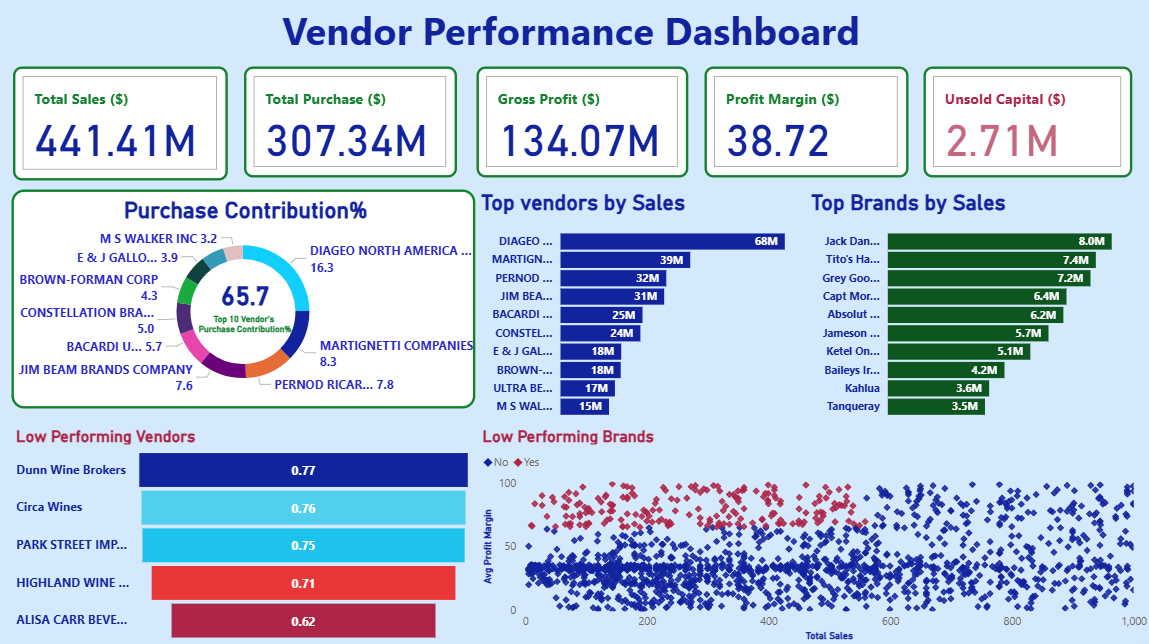

The page's visual inventory and layout, read from the dashboard file:
{"tool":"powerbi","page":{"name":"Page 1","canvas":[1280,720],"ordinal":0},"visuals":[{"type":"cardVisual","fields":{"Data":["Sum(vendor_sales_summary.TotalSalesDollars)"]},"box":[16.7,75,238.3,126.7],"z":0},{"type":"cardVisual","fields":{"Data":["Sum(vendor_sales_summary.TotalPurchaseDollars)"]},"box":[273.3,75,236.7,123.3],"z":1000},{"type":"textbox","box":[16.7,0,1243.3,75],"z":2000},{"type":"cardVisual","fields":{"Data":["Sum(vendor_sales_summary.GrossProfit)"]},"box":[531.7,75,235,123.3],"z":3000},{"type":"cardVisual","fields":{"Data":["Avg(vendor_sales_summary.ProfitMargin)"]},"box":[785,75,226.7,123.3],"z":4000},{"type":"cardVisual","fields":{"Data":["Sum(vendor_sales_summary.UnsoldCapital)"]},"box":[1028.3,75,231.7,123.3],"z":5000},{"type":"donutChart","title":"Purchase Contribution% ","fields":{"Y":["Sum(PurchaseContribution.PurchaseContribution%)"],"Category":["PurchaseContribution.VendorName"]},"box":[15,211.7,515,243.3],"z":6000},{"type":"card","fields":{"Values":["Sum(PurchaseContribution.PurchaseContribution%)"]},"box":[216.7,278.3,115,110],"z":7000},{"type":"barChart","title":"Top vendors by Sales","fields":{"Category":["vendor_sales_summary.VendorName"],"Y":["Sum(vendor_sales_summary.TotalSalesDollars)"]},"box":[531.7,211.7,396.7,263.3],"z":8000},{"type":"barChart","title":"Top Brands by Sales","fields":{"Category":["vendor_sales_summary.Description"],"Y":["Sum(vendor_sales_summary.TotalSalesDollars)"]},"box":[898.3,211.7,381.7,263.3],"z":9000},{"type":"funnel","title":"Low Performing Vendors","fields":{"Category":["LowTurnoverVendor.VendorName"],"Y":["Avg(LowTurnoverVendor.AvgStockTurnOver)"]},"box":[15,475,516.7,243.3],"z":10000},{"type":"scatterChart","title":"Low Performing Brands","fields":{"Category":["BrandPerformance.Description"],"X":["Sum(BrandPerformance.TotalSales)"],"Y":["Avg(BrandPerformance.AvgProfitMargin)"],"Series":["BrandPerformance.TargetBrands"]},"box":[532.7,474.4,748.1,242.9],"z":11000}]}

Visuals, with their boxes in screenshot pixels (x1, y1, x2, y2), scaled from the page's 1280x720 canvas onto the 1149x644 screenshot:
cardVisual - Sum(vendor_sales_summary.TotalSalesDollars): 15 67 229 180
cardVisual - Sum(vendor_sales_summary.TotalPurchaseDollars): 245 67 458 177
textbox: 15 0 1131 67
cardVisual - Sum(vendor_sales_summary.GrossProfit): 477 67 688 177
cardVisual - Avg(vendor_sales_summary.ProfitMargin): 705 67 908 177
cardVisual - Sum(vendor_sales_summary.UnsoldCapital): 923 67 1131 177
"Purchase Contribution% " donutChart: 13 189 476 407
card - Sum(PurchaseContribution.PurchaseContribution%): 195 249 298 347
"Top vendors by Sales" barChart: 477 189 833 425
"Top Brands by Sales" barChart: 806 189 1148 425
"Low Performing Vendors" funnel: 13 425 477 642
"Low Performing Brands" scatterChart: 478 424 1148 642
